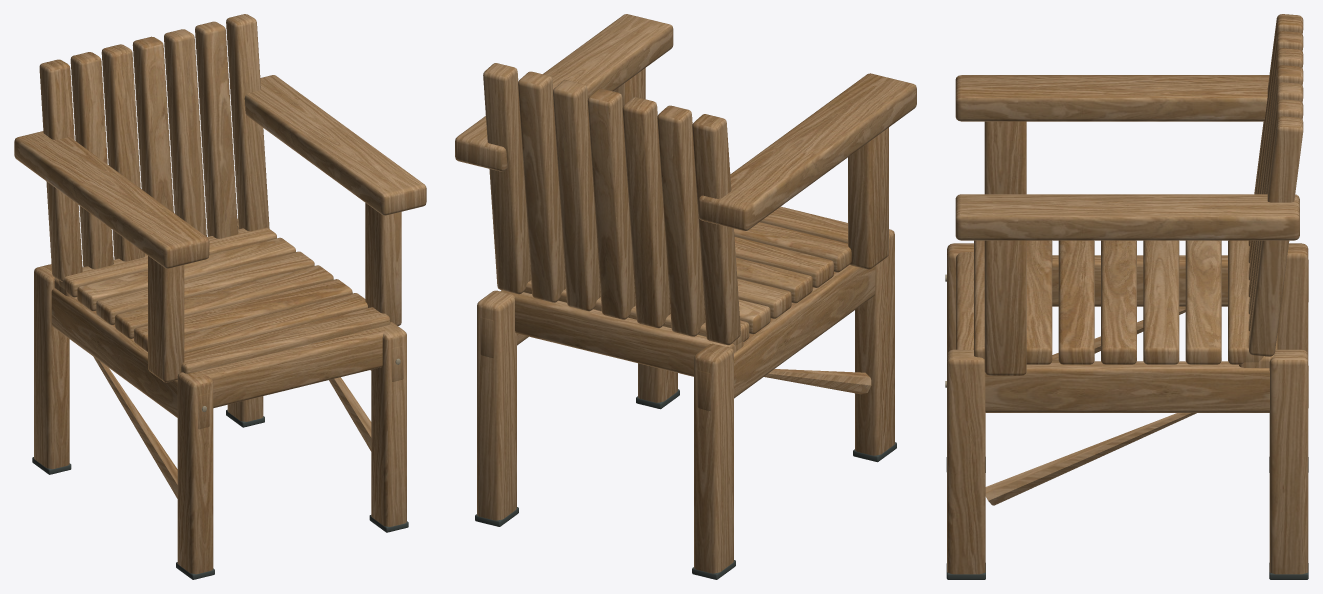
File: patio-dining-chair.glb
3 renders of one model, left to right at view 1: azimuth 30°, elevation 25°; view 2: azimuth 150°, elevation 25°; view 3: azimuth 270°, elevation 25°, orthographic. The views are drawn at different scales.
Visible parts, largest first — view 1: catalog_surface_RealismUV; view 2: catalog_surface_RealismUV; view 3: catalog_surface_RealismUV.
Boxes of the visible parts, x1,y1,x2,y2 form: catalog_surface_RealismUV: [14, 14, 426, 579]; catalog_surface_RealismUV: [455, 14, 916, 579]; catalog_surface_RealismUV: [945, 14, 1308, 579].
Size of the model in its own units: 0.58 by 0.85 by 0.62.
3 materials, 1 textured.
